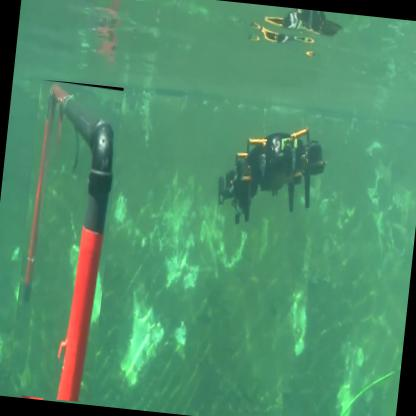gate: (8, 81, 125, 406)
